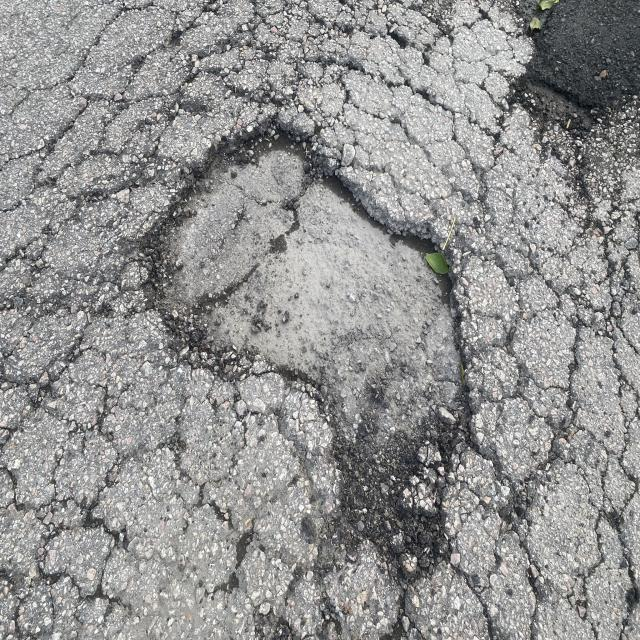pothole: (116, 75, 518, 581)
